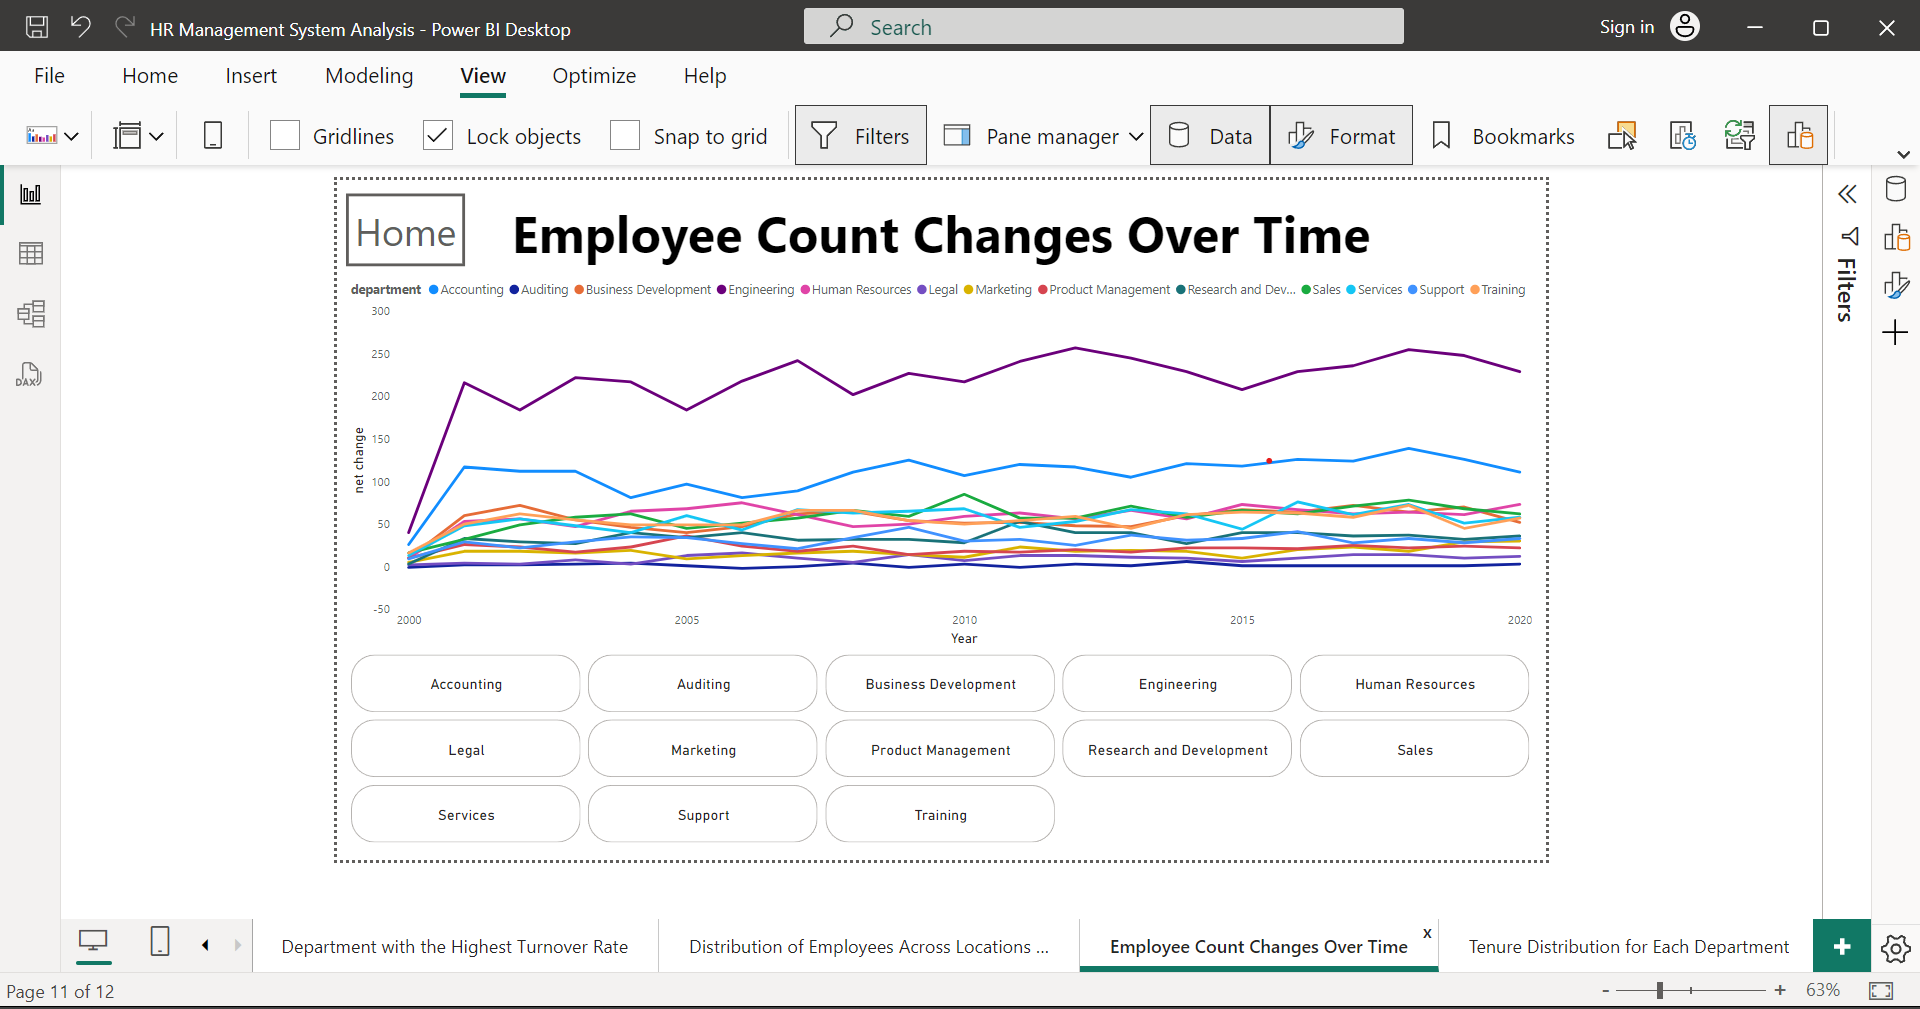

Layout of this report page (visuals, bound fields, positions):
{"tool":"powerbi","page":{"name":"Employee Count Changes Over Time","canvas":[1280,720],"ordinal":10},"visuals":[{"type":"advancedSlicerVisual","fields":{"Values":["hr.department"]},"box":[9.7,497.1,1259.8,210.5],"z":0},{"type":"textbox","box":[9.7,14.6,1259.8,81],"z":1000},{"type":"lineChart","fields":{"Category":["hr.hire_date.Variation.Date Hierarchy.Year"],"Y":["Metrics.net change"],"Series":["hr.department"]},"box":[9.7,95.5,1259.8,401.6],"z":1001},{"type":"actionButton","box":[9,14,126,77],"z":1002}]}

Visuals, with their boxes on the page's 1280x720 design canvas (x1, y1, x2, y2). These are canvas units, not pixel positions in the 1920x1009 screenshot, which may show the page scaled, cropped or inside an application window:
advancedSlicerVisual - hr.department: box(10, 497, 1270, 708)
textbox: box(10, 15, 1270, 96)
lineChart - hr.hire_date.Variation.Date Hierarchy.Year x Metrics.net change: box(10, 96, 1270, 497)
actionButton: box(9, 14, 135, 91)
